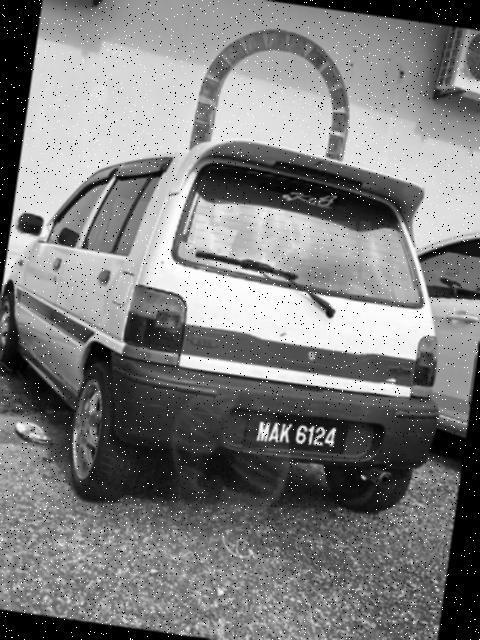License_Plate: (243, 411, 352, 463)
MAK6124: (243, 411, 352, 463)
car: (1, 111, 480, 549)
